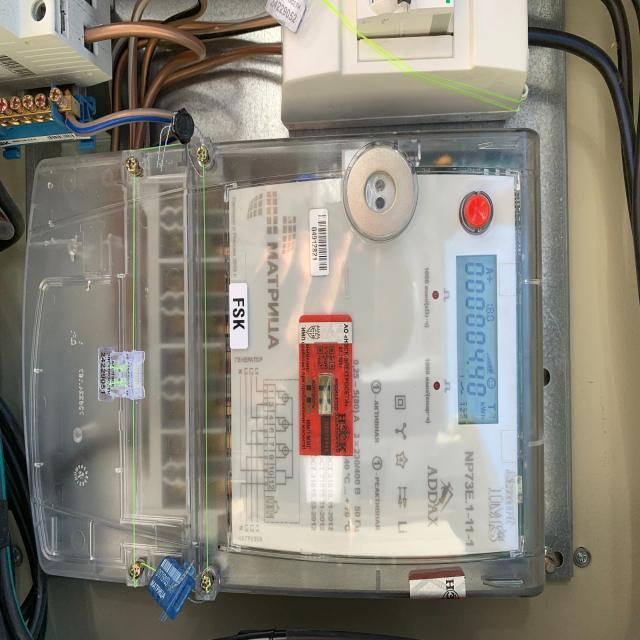Display: (455, 253, 501, 423)
meter_matrica: (13, 126, 575, 606)
meter_number: (308, 208, 332, 277)
seal_elso: (93, 342, 152, 412)
seal_imp: (296, 313, 356, 457)
